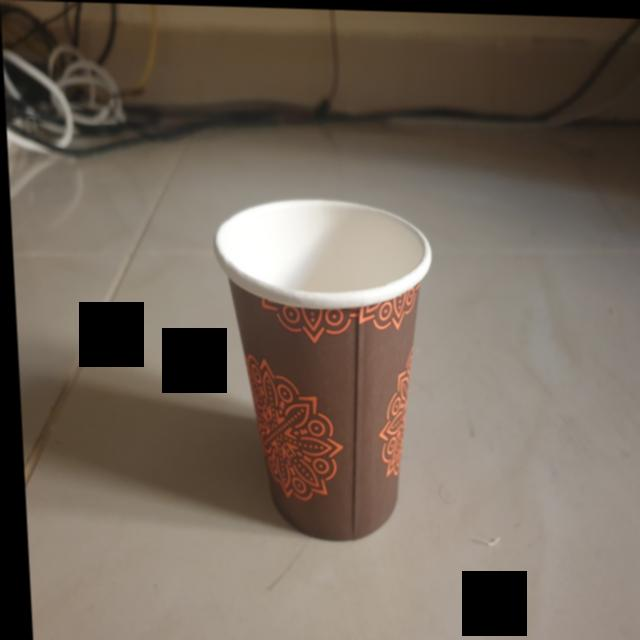cups: (206, 190, 442, 545)
